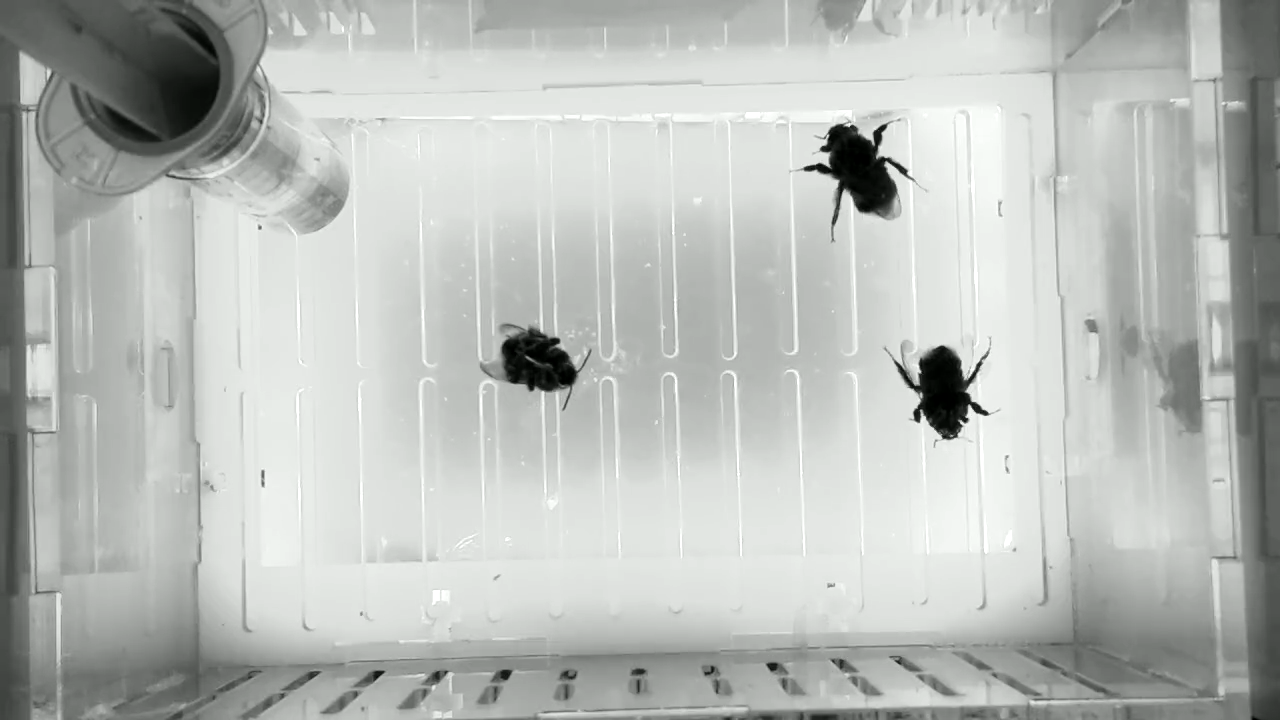bee_alive: (783, 111, 933, 244)
bee_dead: (877, 332, 1007, 450), (472, 318, 596, 413)
feeder: (173, 69, 356, 244)
